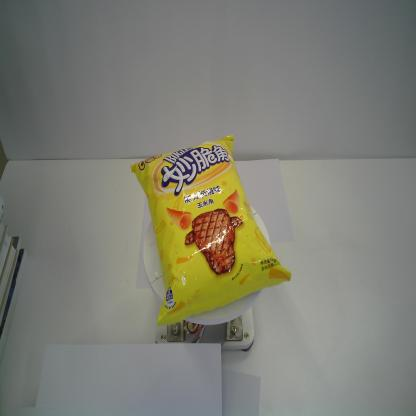Puffed Food: (130, 134, 292, 328)
